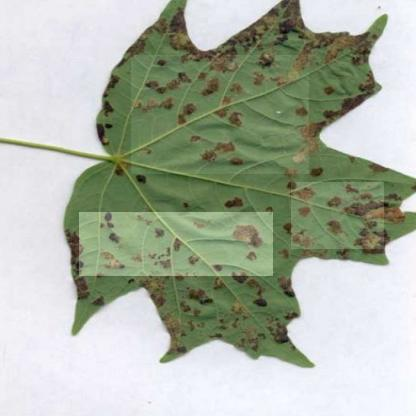black-spot: (131, 55, 309, 174), (79, 212, 273, 276), (291, 182, 384, 249)
